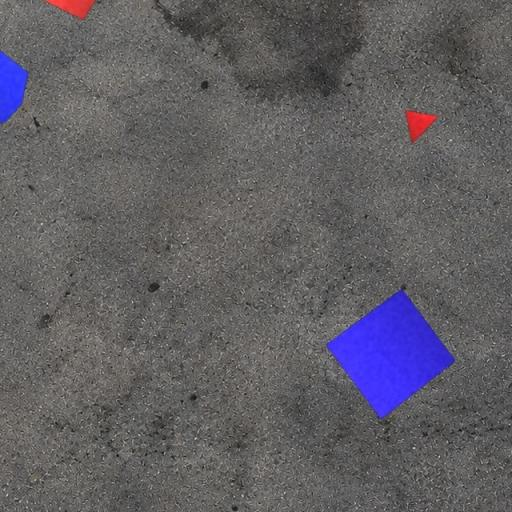BLUE_SQUARE: (326, 288, 456, 421)
RED_SQUARE: (36, 0, 110, 21)
